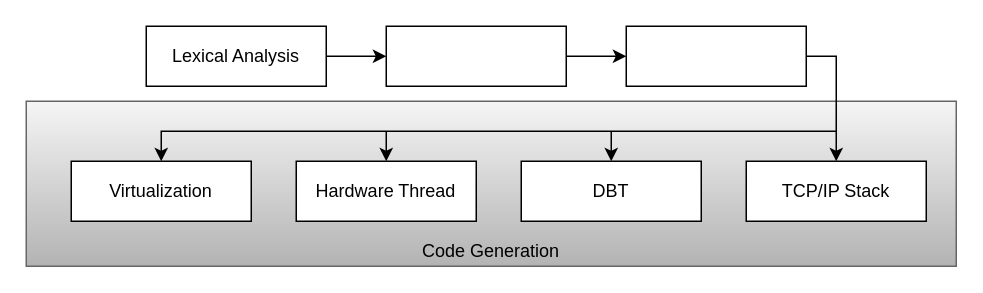
This 983x293 diagram has some shape labels left out. The centre of each missing label's shape, as x and y in pixels:
"Semantic Analysis" belongs at (x=715, y=55).
"Syntactic Analysis" belongs at (x=475, y=55).
